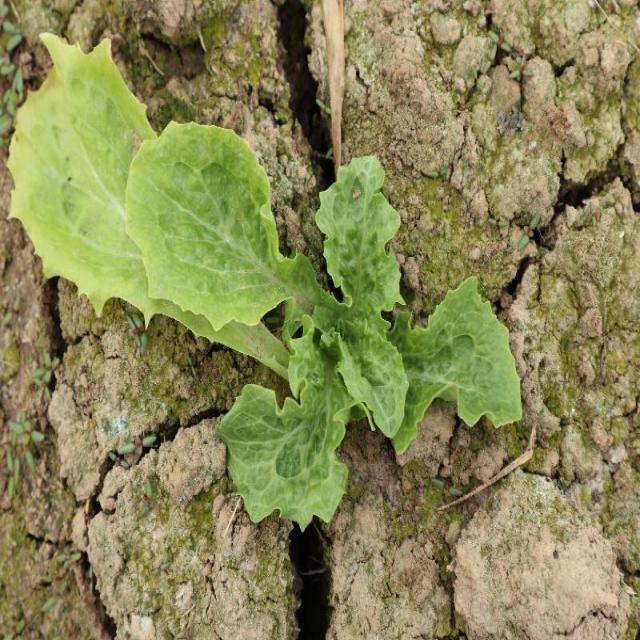crop: (128, 118, 525, 530)
